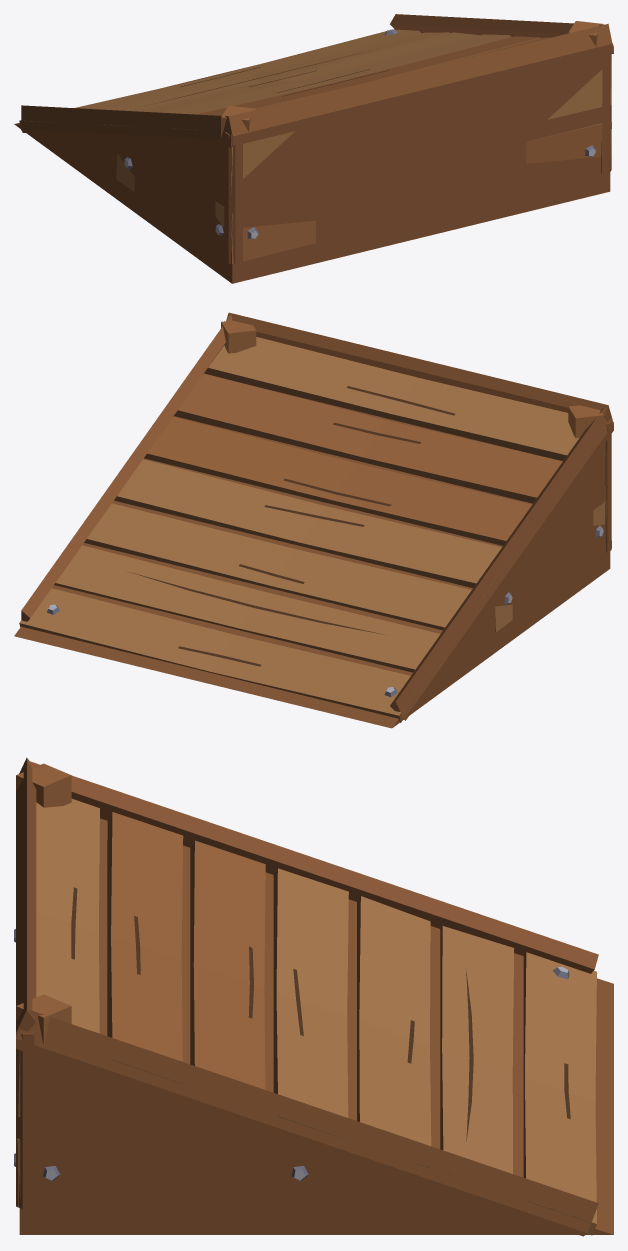
Rendered from cone_plank_slope.glb.
The picture shows the model from 3 angles, top to bottom: view 1: azimuth 30°, elevation 25°; view 2: azimuth 150°, elevation 25°; view 3: azimuth 270°, elevation 25°; orthographic projection. The views are drawn at different scales.
Visible parts, largest first — view 1: Body; view 2: Body; view 3: Body.
Part boxes in pixels (x1,y1,x2,y2): Body: (14,14,613,283); Body: (14,312,613,728); Body: (14,757,613,1236).
Size of the model in its own units: 4 by 1.68 by 3.98.
